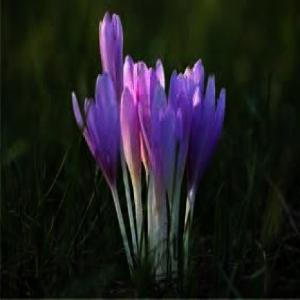Saffron: (70, 74, 122, 182), (188, 78, 226, 195)
